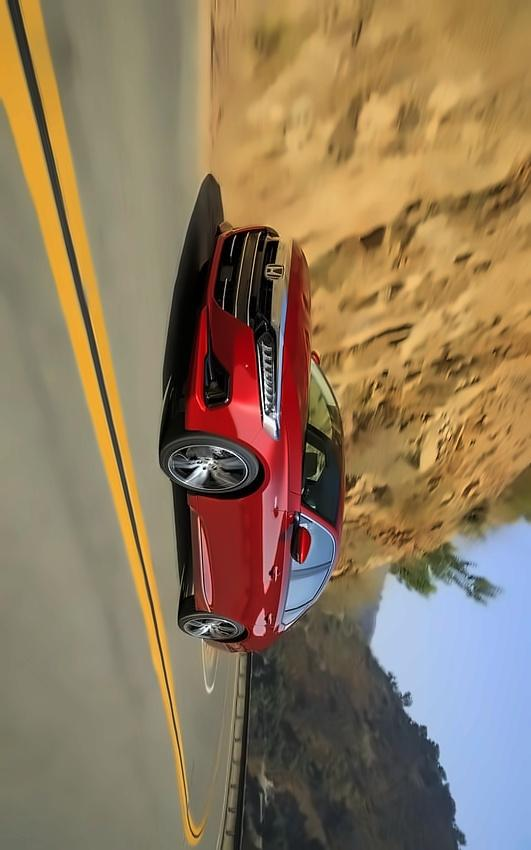Car hood: (277, 242, 325, 522)
Fender - -F-L-: (187, 422, 305, 518)
Front bumper: (173, 217, 278, 448)
Headlight - -L-: (254, 336, 281, 447)
Passenger-s door - -F-L-: (184, 489, 340, 585)
Passenger-s door - -R-L-: (179, 556, 339, 623)
Side bumper - -L-: (173, 489, 227, 625)
Side mirror - -L-: (282, 523, 314, 566)
